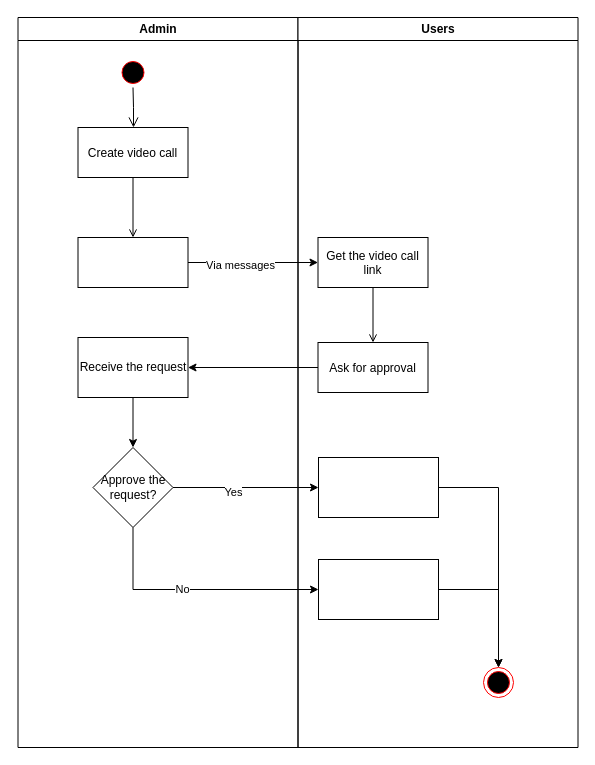
The diagram is 595 pixels wide and 765 high, and some of its shapes have lost their labels. Each missing label, with the centre of its shape:
"Enter the call" belongs at [378,487].
"Exits the call" belongs at [378,589].
"Send video call link" belongs at [132,262].
